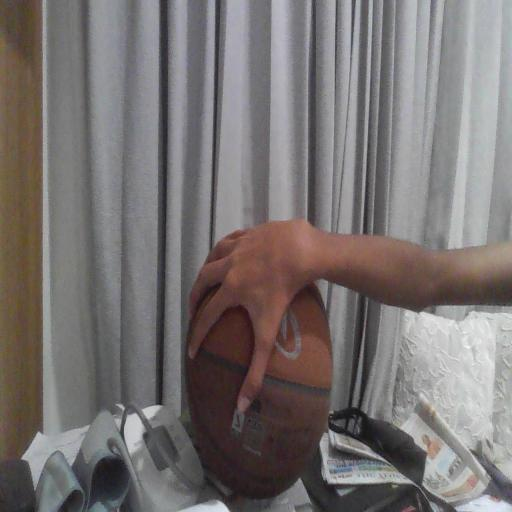basketball: (185, 285, 331, 498)
